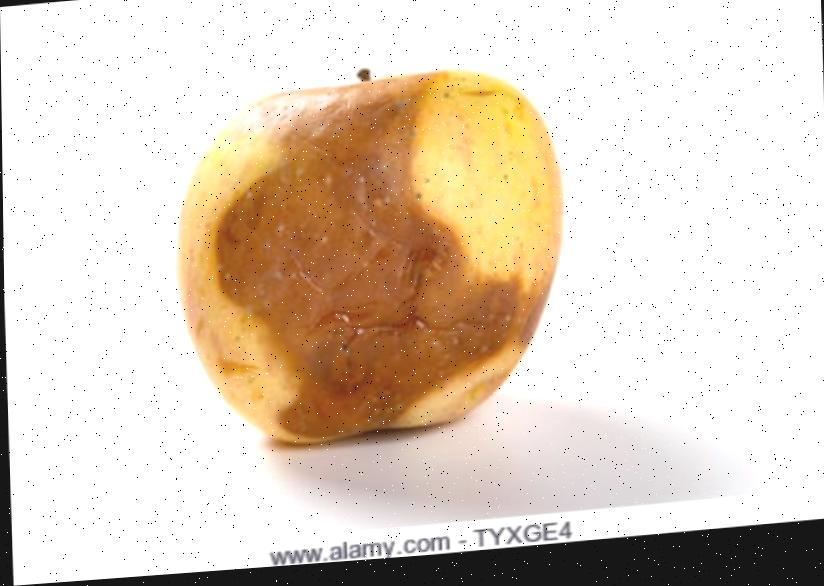ROT: (149, 19, 585, 468)
